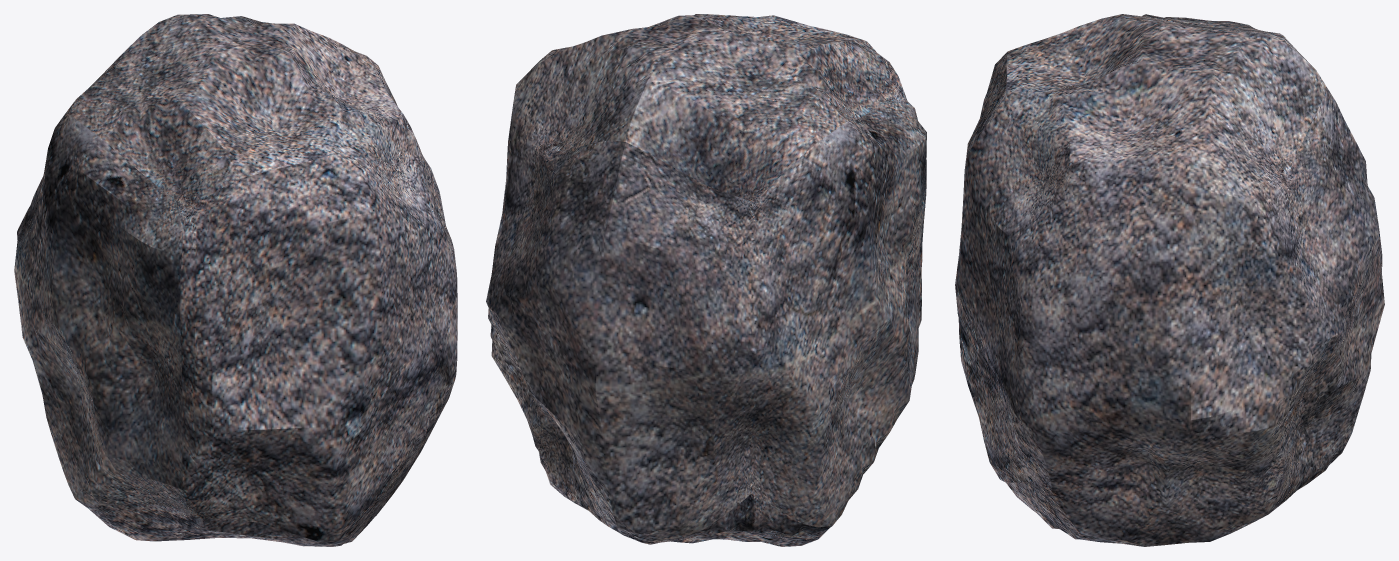
File: Piedra4.fbx
3 views of the same model, side by side, from view 1: azimuth 30°, elevation 25°; view 2: azimuth 150°, elevation 25°; view 3: azimuth 270°, elevation 25° (orthographic). The views are drawn at different scales.
Visible parts, largest first — view 1: Cube.001; view 2: Cube.001; view 3: Cube.001.
Part boxes in pixels (left/top/right/bottom): Cube.001: left=14, top=14, right=457, bottom=546; Cube.001: left=486, top=14, right=926, bottom=546; Cube.001: left=955, top=14, right=1384, bottom=546.
Bounding box in the file's own units: 67.93 × 85.47 × 69.89.
Materials: 1 (1 with a texture image).
